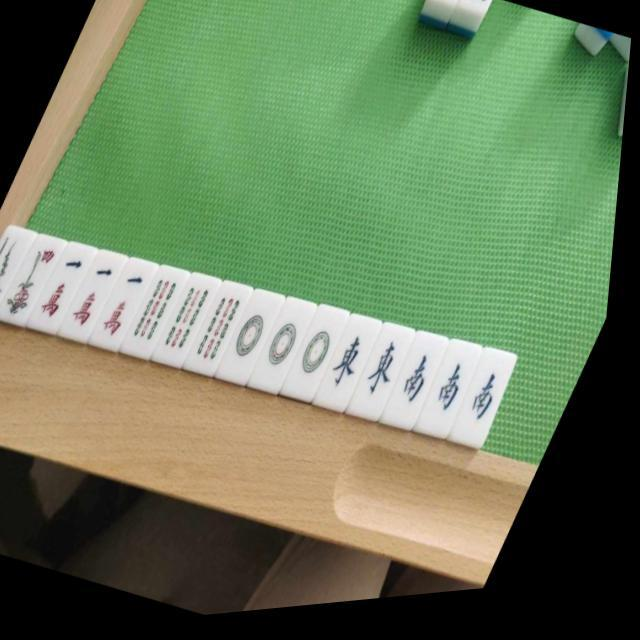bf1: (0, 222, 36, 316)
bs4: (3, 235, 68, 328)
hwe: (354, 331, 423, 431), (321, 322, 388, 421)
hws: (456, 358, 526, 458), (421, 348, 490, 448), (388, 340, 456, 440)
sb9: (158, 275, 226, 375), (188, 286, 256, 384), (126, 269, 193, 366)
sc1: (96, 261, 162, 357), (33, 243, 99, 337), (67, 254, 130, 345)
sd1: (288, 312, 356, 411), (223, 295, 290, 391), (256, 304, 322, 400)
